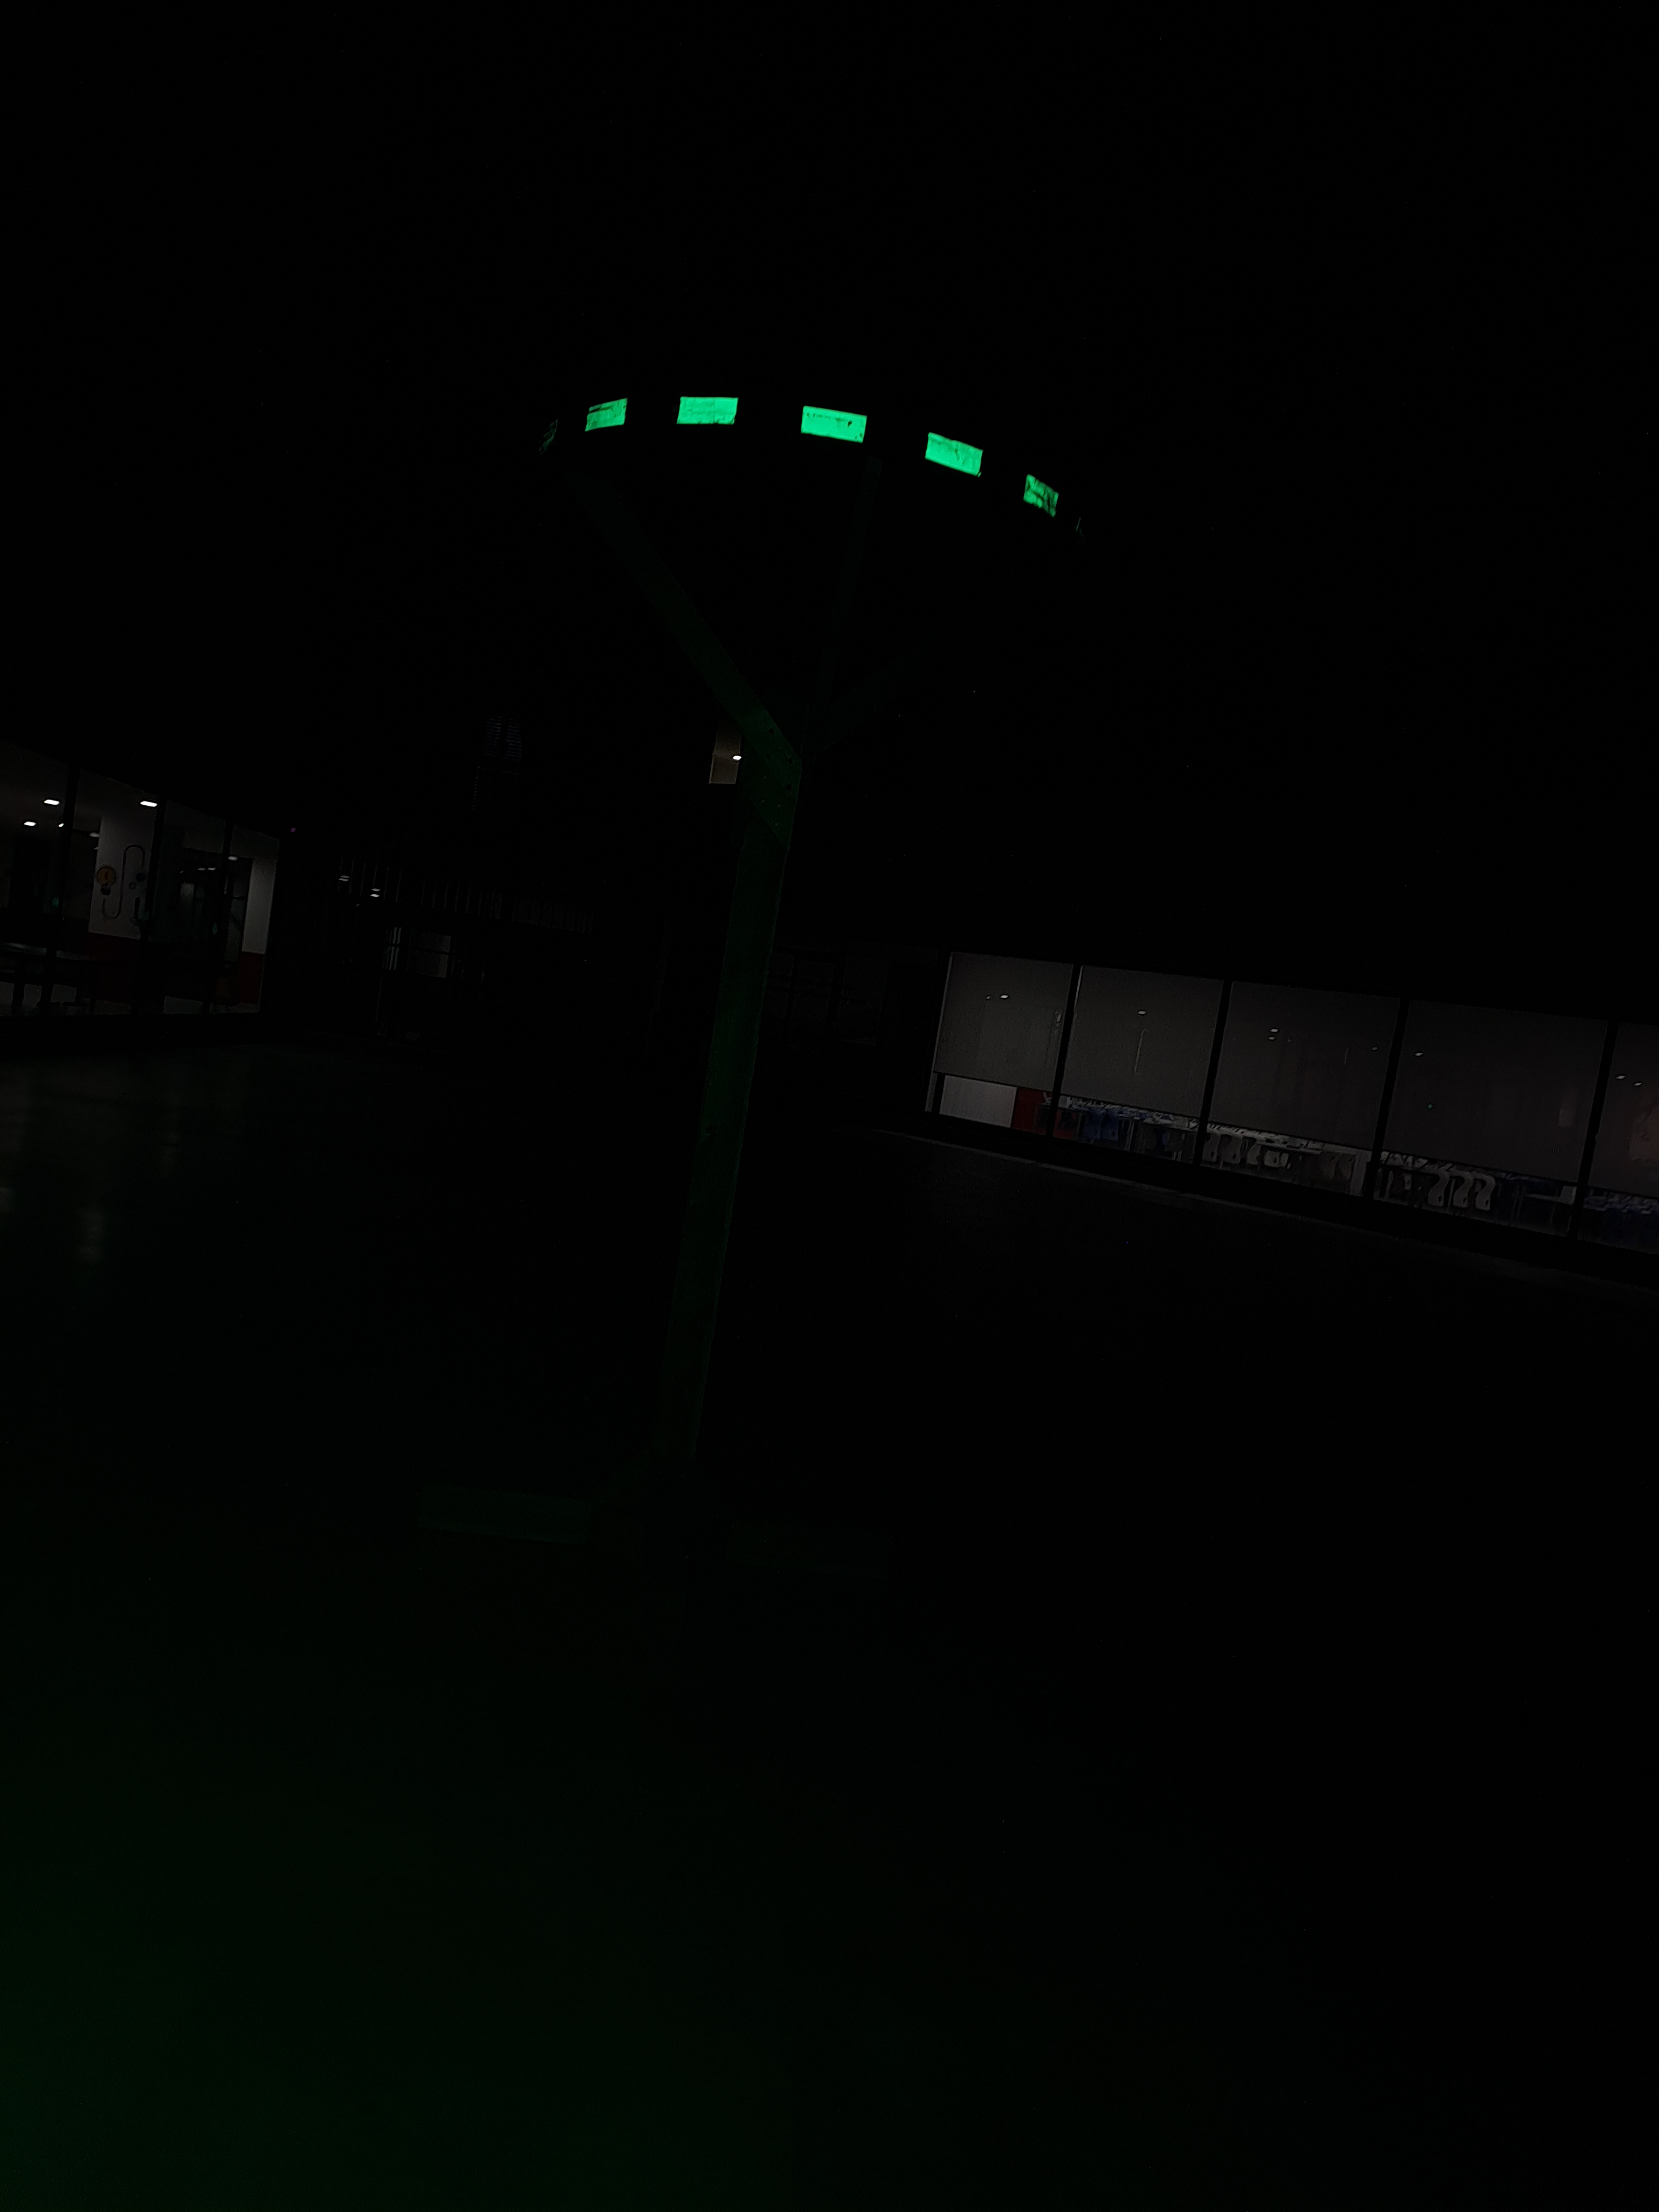hoop: (577, 380, 1068, 529)
